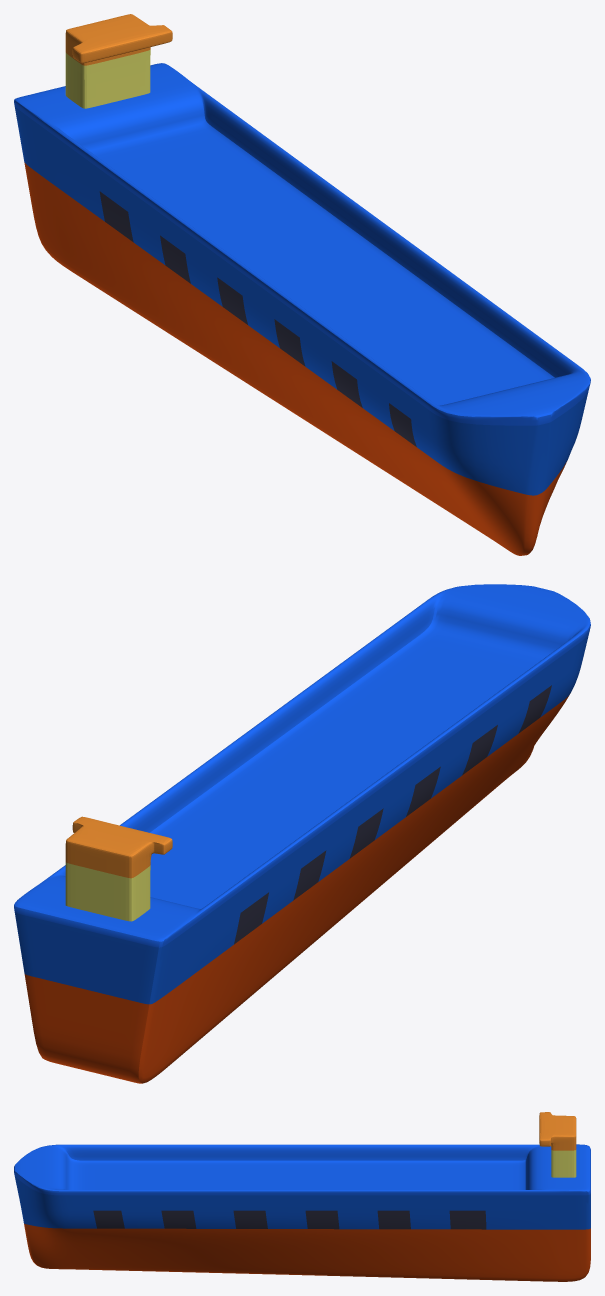
File: ship.fbx
3 views of the same model, one above another, from view 1: azimuth 30°, elevation 25°; view 2: azimuth 150°, elevation 25°; view 3: azimuth 270°, elevation 25° (orthographic). The views are drawn at different scales.
Visible parts, largest first — view 1: Cargo ship.001; view 2: Cargo ship.001; view 3: Cargo ship.001.
Boxes of the visible parts, box(x1,y1,x2,y2) form: Cargo ship.001: box(14, 14, 590, 555); Cargo ship.001: box(14, 584, 590, 1083); Cargo ship.001: box(14, 1112, 590, 1281).
Size of the model in its own units: 1500 by 2137 by 7843.
